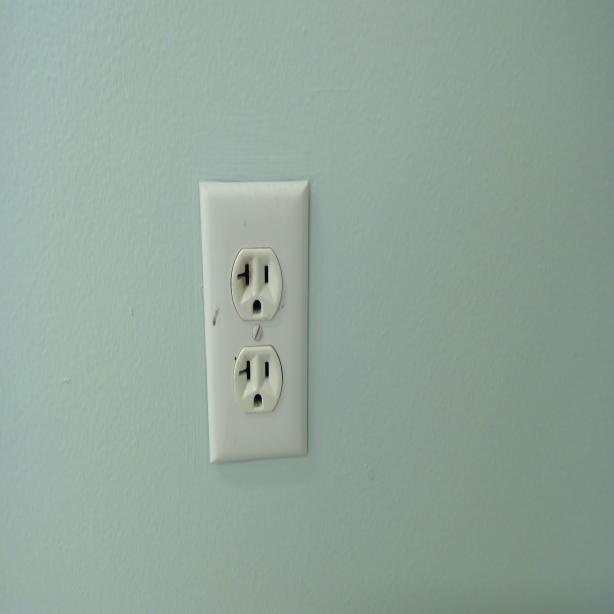typeb: (230, 233, 282, 327), (238, 355, 282, 410)
